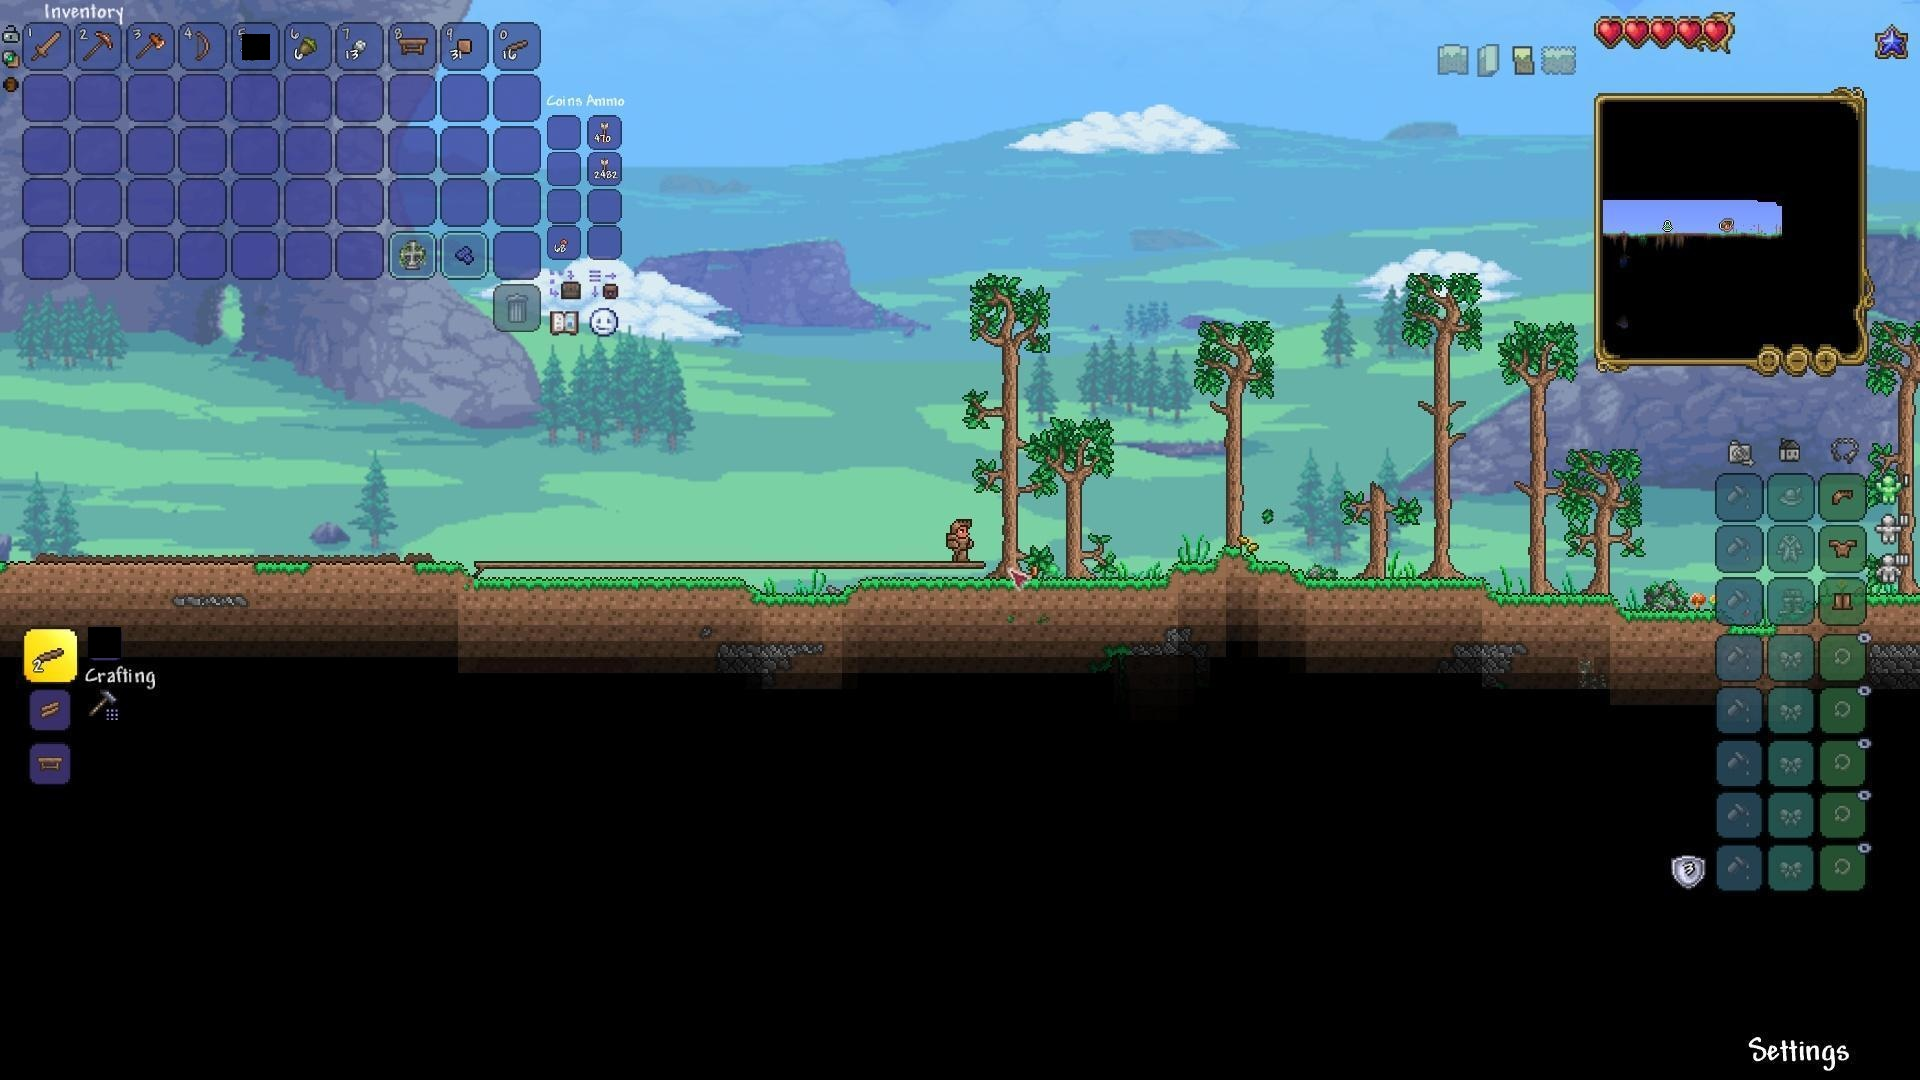breastplate: (1828, 537, 1857, 556)
helmet: (1826, 483, 1859, 510)
legs: (1832, 587, 1855, 616)
wood: (37, 696, 65, 721)
workbench: (393, 32, 430, 57), (36, 752, 66, 775)
